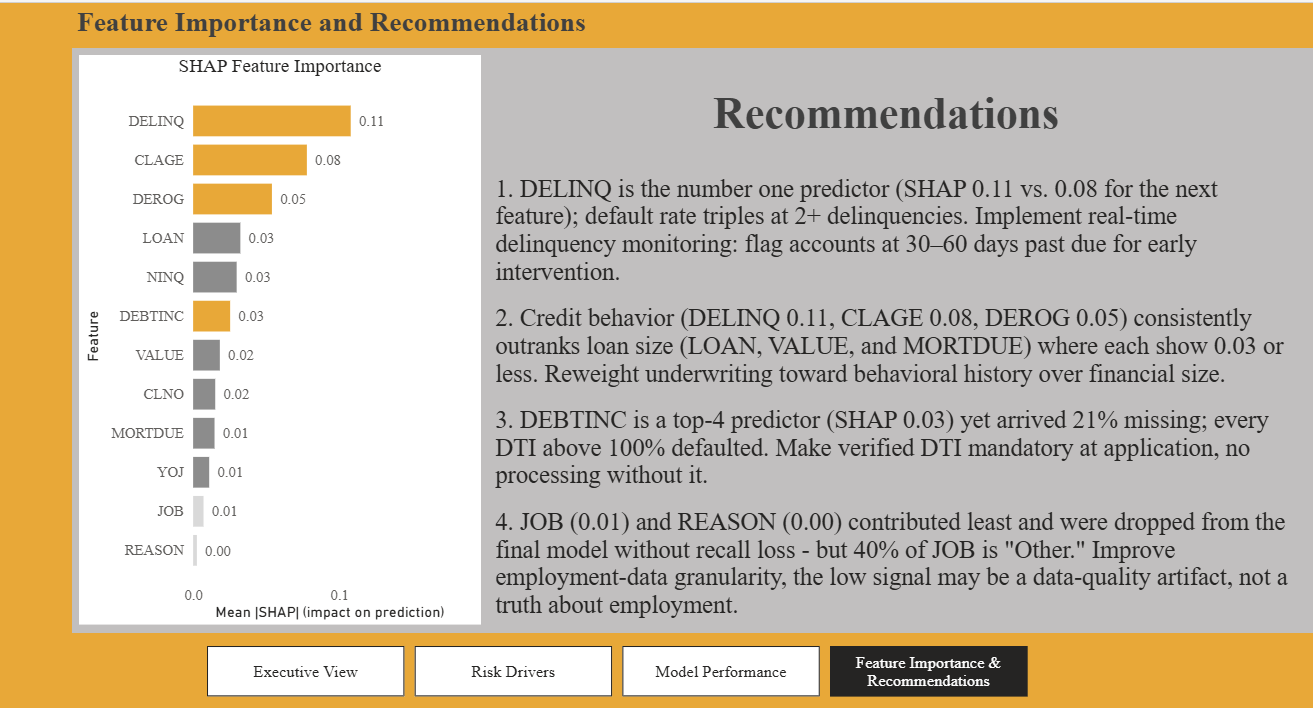

Layout of this report page (visuals, bound fields, positions):
{"tool":"powerbi","page":{"name":"Feature Importance & Recommendations","canvas":[1280,720],"ordinal":3},"visuals":[{"type":"shape","box":[0,1,1280,74.9],"z":0},{"type":"shape","box":[0,75.9,71,643.9],"z":1000},{"type":"shape","box":[0,644.9,1280,74.9],"z":2000},{"type":"textbox","box":[71,30.2,512.6,45.7],"z":3000},{"type":"clusteredBarChart","title":"SHAP Feature Importance","fields":{"Category":["shap_importance.Feature"],"Y":["Sum(shap_importance.Mean_absolute_shap)"]},"box":[77.8,82.7,391,554.4],"z":4000},{"type":"textbox","box":[477.6,91.4,784.9,545.7],"z":5000},{"type":"pageNavigator","box":[202.3,657.5,800.5,49.6],"z":6000}]}

Visuals, with their boxes on the page's 1280x720 design canvas (x1, y1, x2, y2). These are canvas units, not pixel positions in the 1313x708 screenshot, which may show the page scaled, cropped or inside an application window:
shape: [x1=0, y1=1, x2=1280, y2=76]
shape: [x1=0, y1=76, x2=71, y2=720]
shape: [x1=0, y1=645, x2=1280, y2=720]
textbox: [x1=71, y1=30, x2=584, y2=76]
"SHAP Feature Importance" clusteredBarChart: [x1=78, y1=83, x2=469, y2=637]
textbox: [x1=478, y1=91, x2=1262, y2=637]
pageNavigator: [x1=202, y1=658, x2=1003, y2=707]
